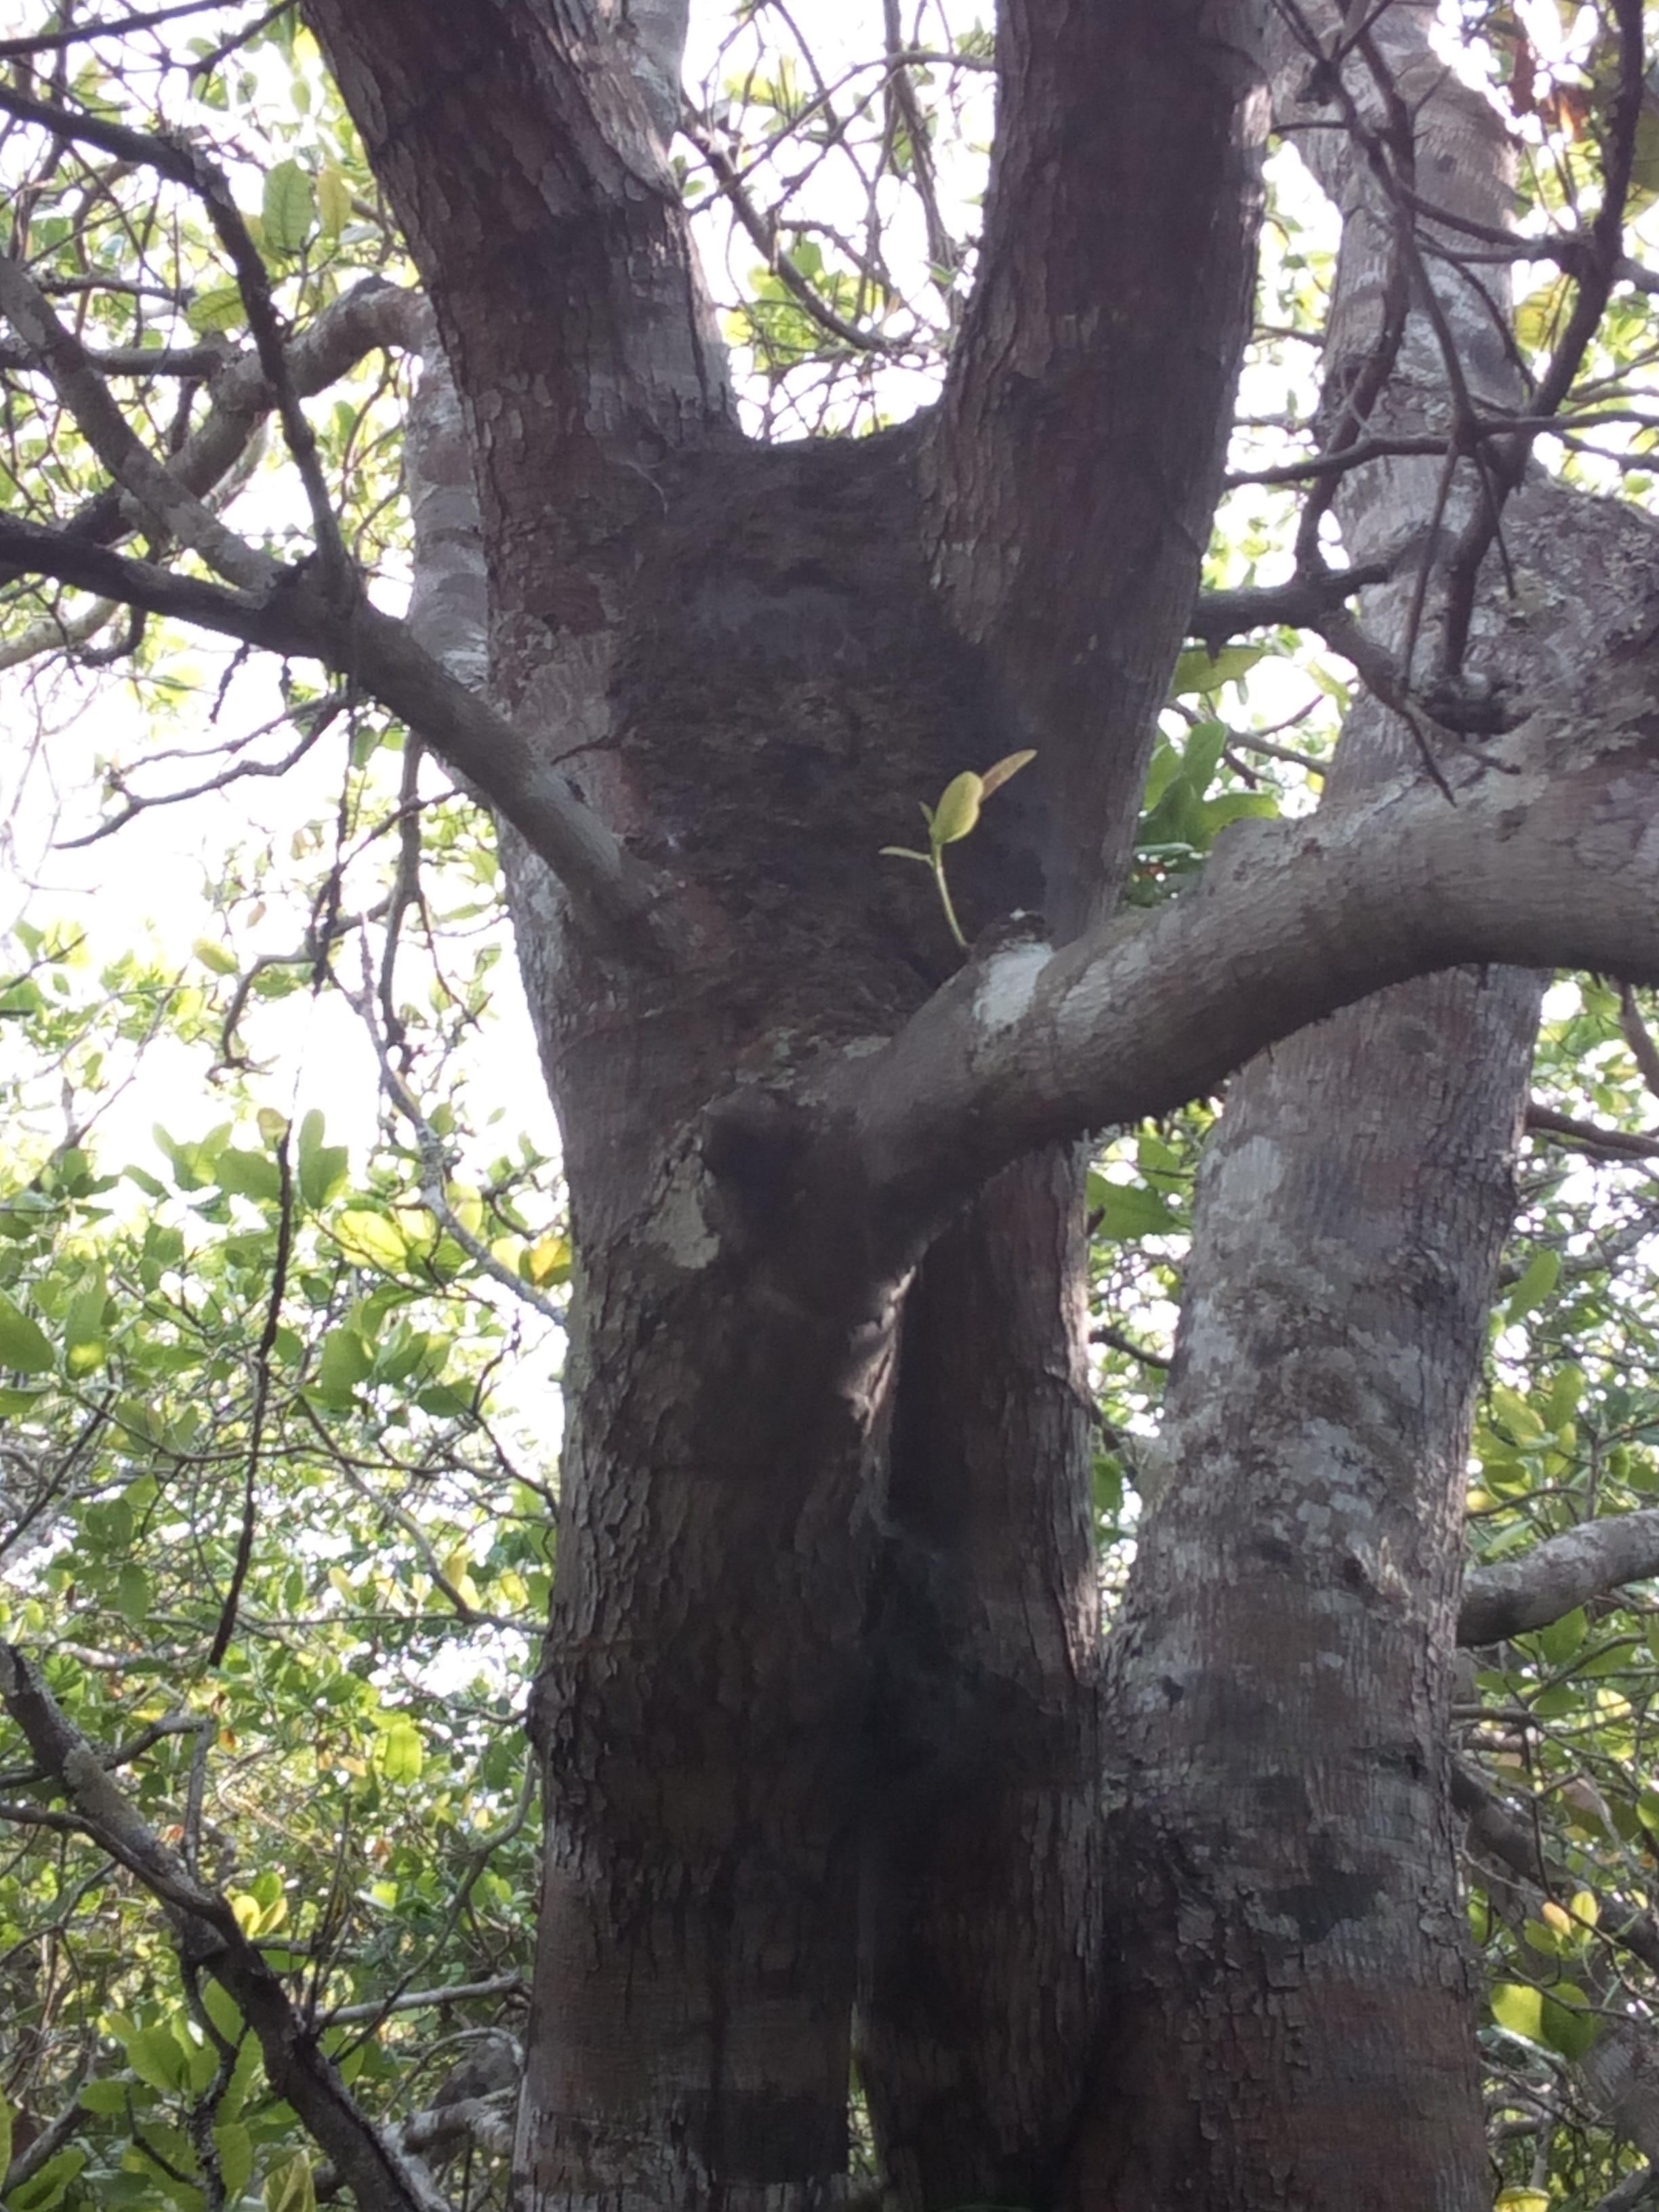Termites: (622, 388, 965, 899), (613, 1658, 812, 2153)
